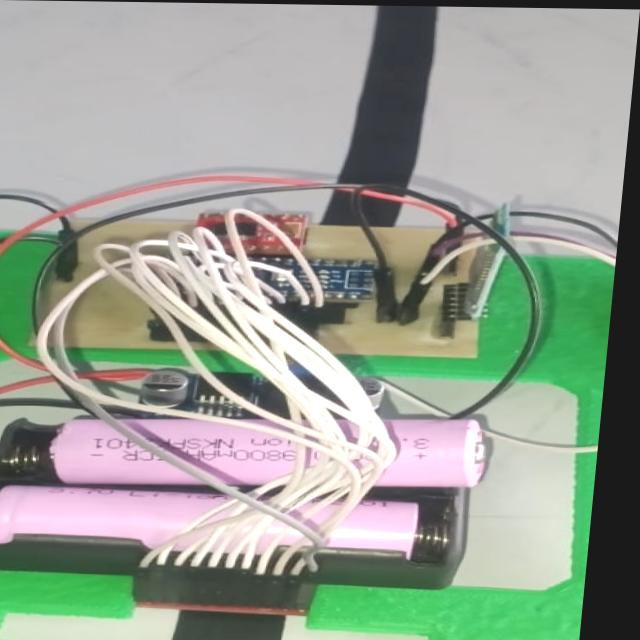vehicle: (0, 168, 624, 640)
